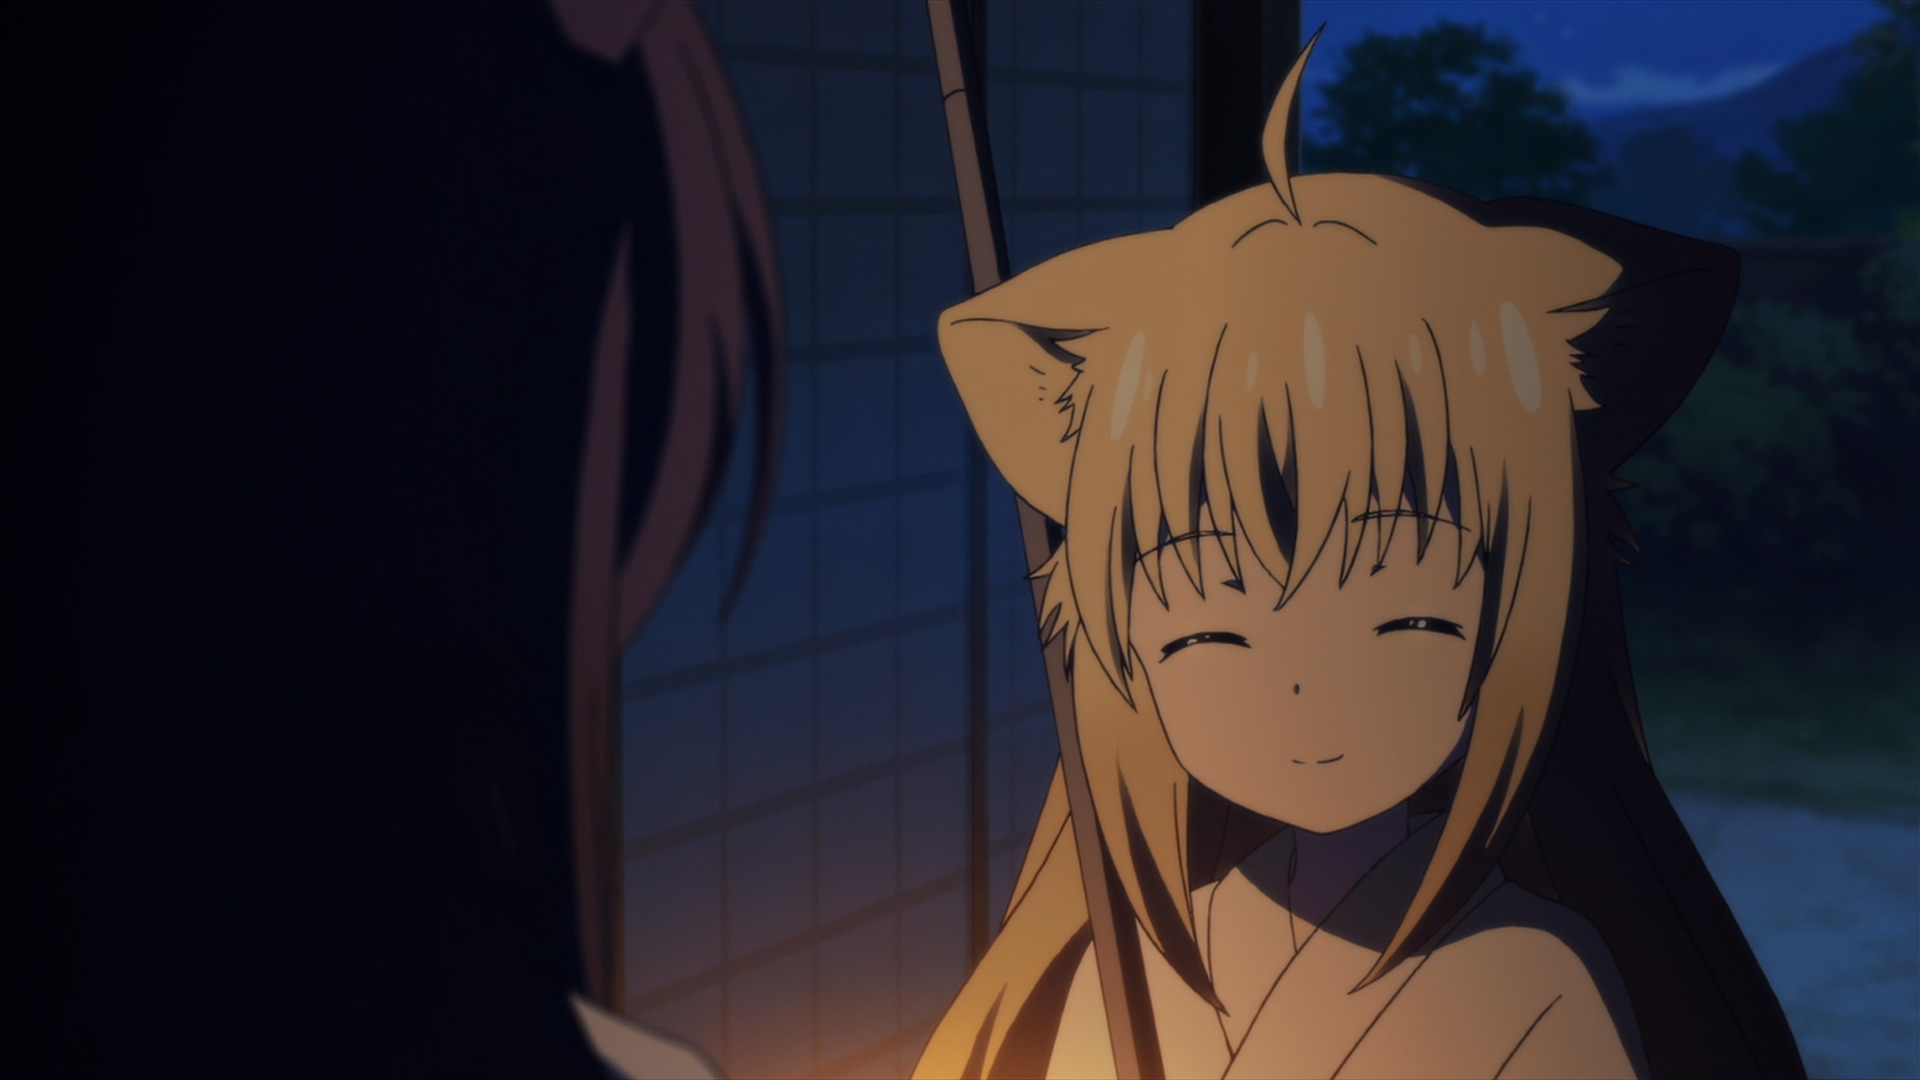柚: (914, 20, 1803, 1080)
皋: (1, 1, 796, 1080)
